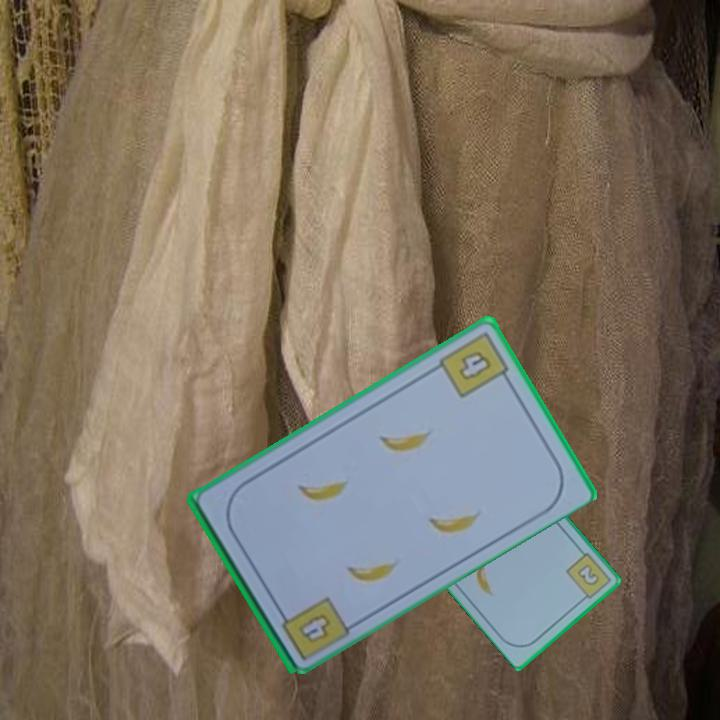2b: (562, 549, 614, 605)
4b: (435, 328, 514, 401), (295, 609, 334, 646)
